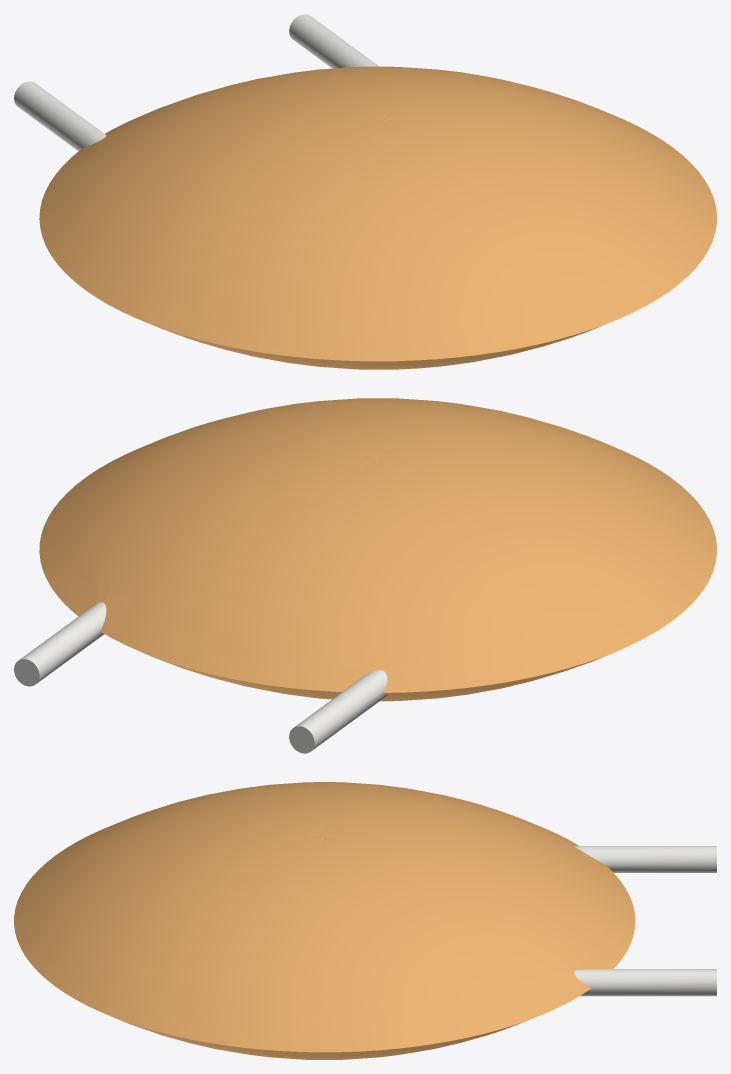
Rendered from C_Disc_D16.0mm_W5.0mm_P7.50mm.glb.
3 renders of one model, top to bottom at view 1: azimuth 30°, elevation 25°; view 2: azimuth 150°, elevation 25°; view 3: azimuth 270°, elevation 25°, orthographic. The views are drawn at different scales.
Parts seen in each view (by area): view 1: Shape_IndexedFaceSet.003, Shape_IndexedFaceSet.001, Shape_IndexedFaceSet.002, Shape_IndexedFaceSet.004; view 2: Shape_IndexedFaceSet.003, Shape_IndexedFaceSet.001, Shape_IndexedFaceSet.004, Shape_IndexedFaceSet.002; view 3: Shape_IndexedFaceSet.003, Shape_IndexedFaceSet.004, Shape_IndexedFaceSet.001, Shape_IndexedFaceSet.002.
Boxes of the visible parts, x1,y1,x2,y2 form: Shape_IndexedFaceSet.003: (39, 66, 716, 361); Shape_IndexedFaceSet.001: (14, 81, 106, 151); Shape_IndexedFaceSet.002: (153, 325, 602, 369); Shape_IndexedFaceSet.004: (289, 14, 379, 68); Shape_IndexedFaceSet.003: (39, 398, 716, 692); Shape_IndexedFaceSet.001: (295, 670, 387, 750); Shape_IndexedFaceSet.004: (19, 602, 106, 682); Shape_IndexedFaceSet.002: (145, 653, 611, 701); Shape_IndexedFaceSet.003: (14, 782, 635, 1052); Shape_IndexedFaceSet.004: (574, 969, 716, 996); Shape_IndexedFaceSet.001: (574, 846, 716, 872); Shape_IndexedFaceSet.002: (116, 1018, 527, 1059).
Size of the model in its own units: 6.3 by 1.97 by 7.12.
